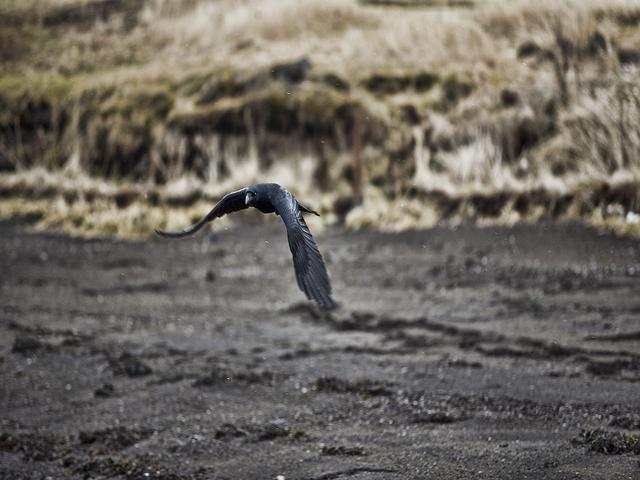bird: (154, 162, 365, 316)
